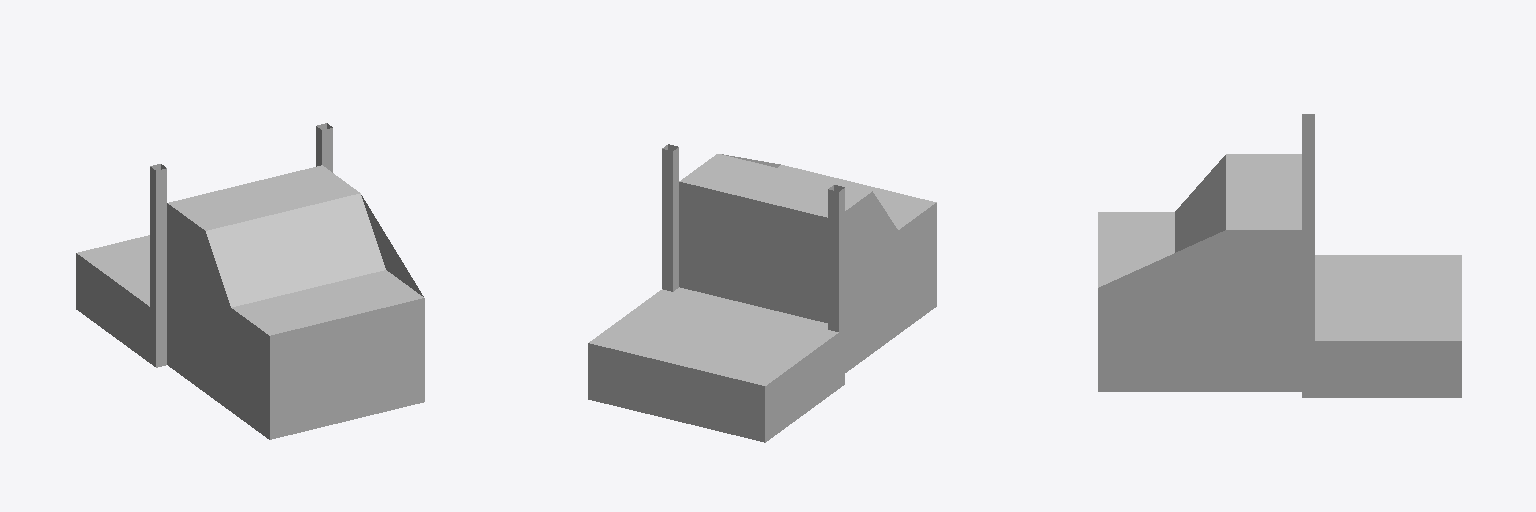
The model's file is truk_unfinished.obj.
3 renders of one model, left to right at view 1: azimuth 30°, elevation 25°; view 2: azimuth 150°, elevation 25°; view 3: azimuth 270°, elevation 25°, orthographic.
Parts seen in each view (by area): view 1: PRLD01.001; view 2: PRLD01.001; view 3: PRLD01.001.
Boxes of the visible parts, box(x1,y1,x2,y2) form: PRLD01.001: box(76, 123, 424, 439); PRLD01.001: box(588, 144, 936, 442); PRLD01.001: box(1098, 114, 1461, 397).
Size of the model in its own units: 128 by 136 by 228.